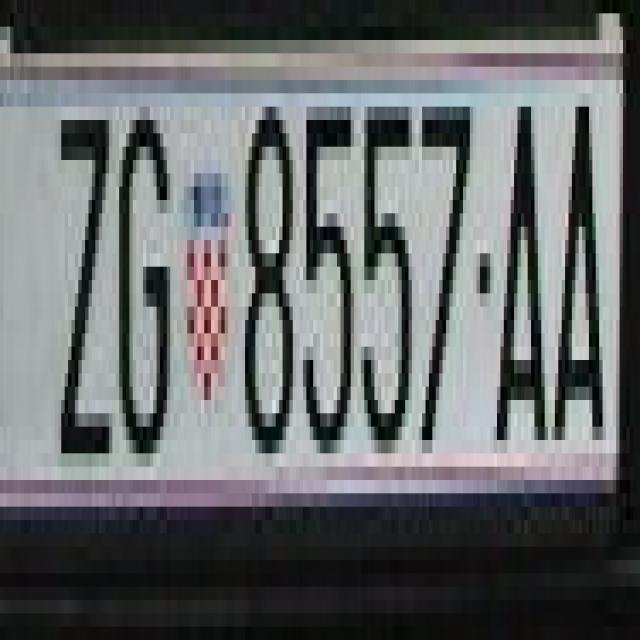5: (303, 120, 354, 453), (364, 94, 416, 414)
7: (419, 80, 466, 440)
8: (242, 94, 292, 454)
A: (551, 93, 606, 440), (490, 93, 541, 427)
G: (109, 106, 170, 466)
Z: (61, 94, 112, 454)
